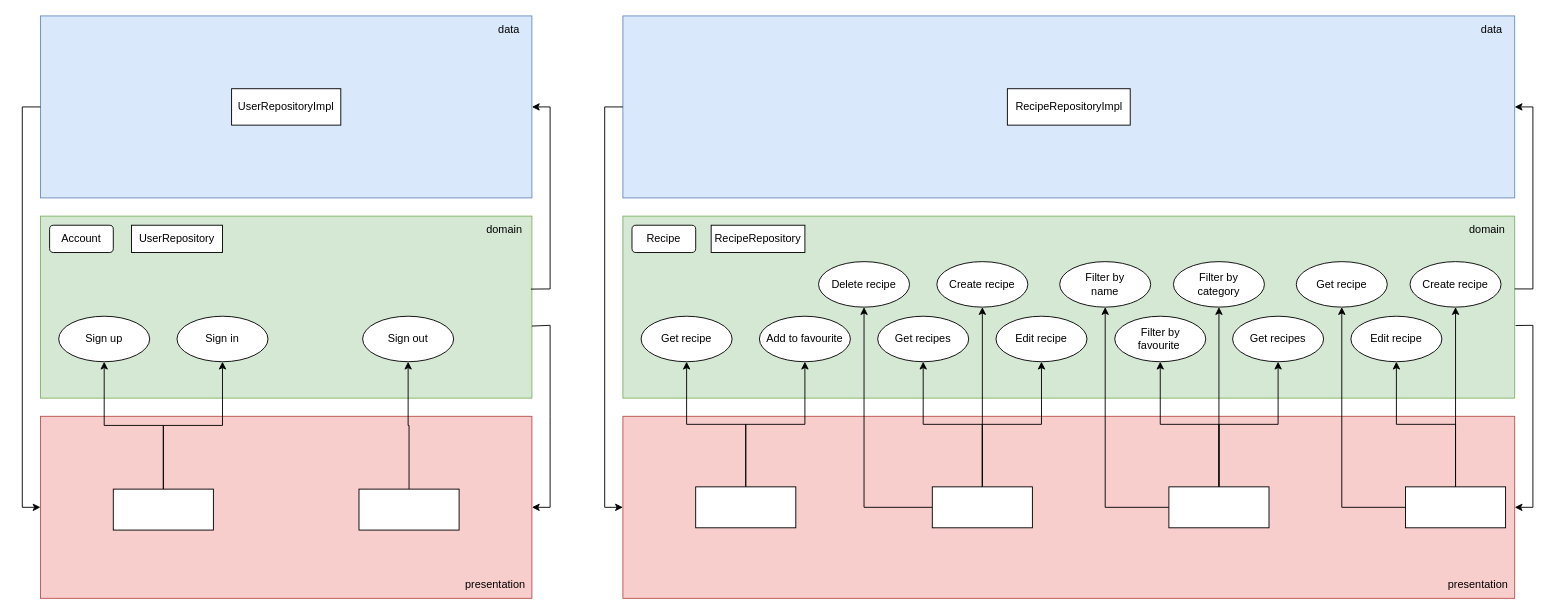
This 1556x614 diagram has some shape labels left out. Each missing label, with the centre of its shape:
Авторизация / Регистрация: (x=162, y=509)
Каталог рецептов: (x=1218, y=507)
Личный кабинет: (x=408, y=509)
Создание / изменение рецепта: (x=1455, y=507)
Страница личных рецептов: (x=981, y=507)
Страница просмотра рецепта: (x=745, y=507)
